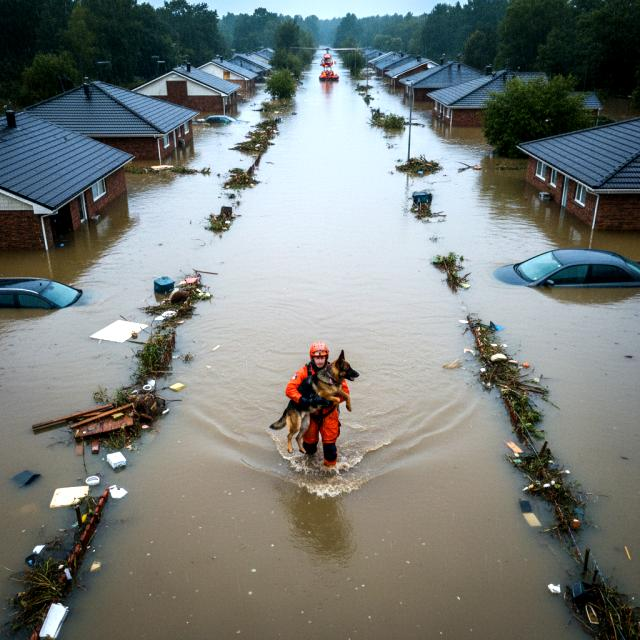dog: (268, 344, 366, 458)
rescuer: (288, 332, 352, 475)
